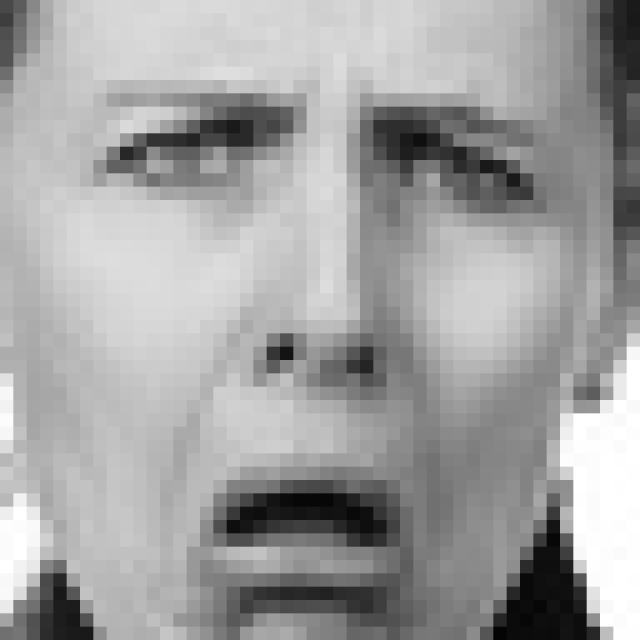disgust: (83, 76, 550, 627)
